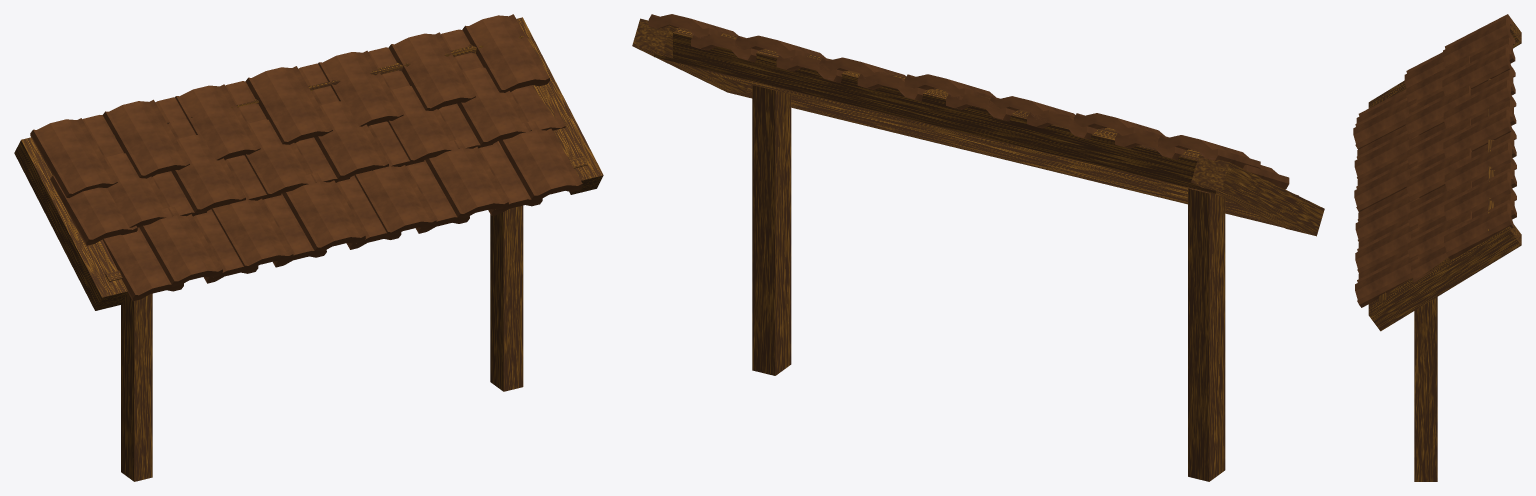
File: Naves.fbx
The picture shows the model from 3 angles, left to right: view 1: azimuth 30°, elevation 25°; view 2: azimuth 150°, elevation 25°; view 3: azimuth 270°, elevation 25°; orthographic projection. The views are drawn at different scales.
Parts seen in each view (by area): view 1: Cube.047; view 2: Cube.047; view 3: Cube.047.
Part boxes in pixels (left/top/right/bottom): Cube.047: left=14, top=14, right=603, bottom=481; Cube.047: left=632, top=14, right=1324, bottom=481; Cube.047: left=1353, top=14, right=1521, bottom=481.
Bounding box in the file's own units: 127 × 380 × 238.
